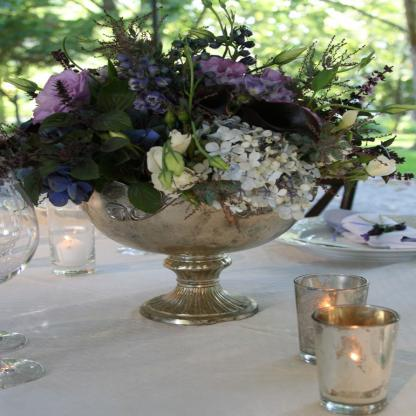vase: (79, 174, 318, 325)
